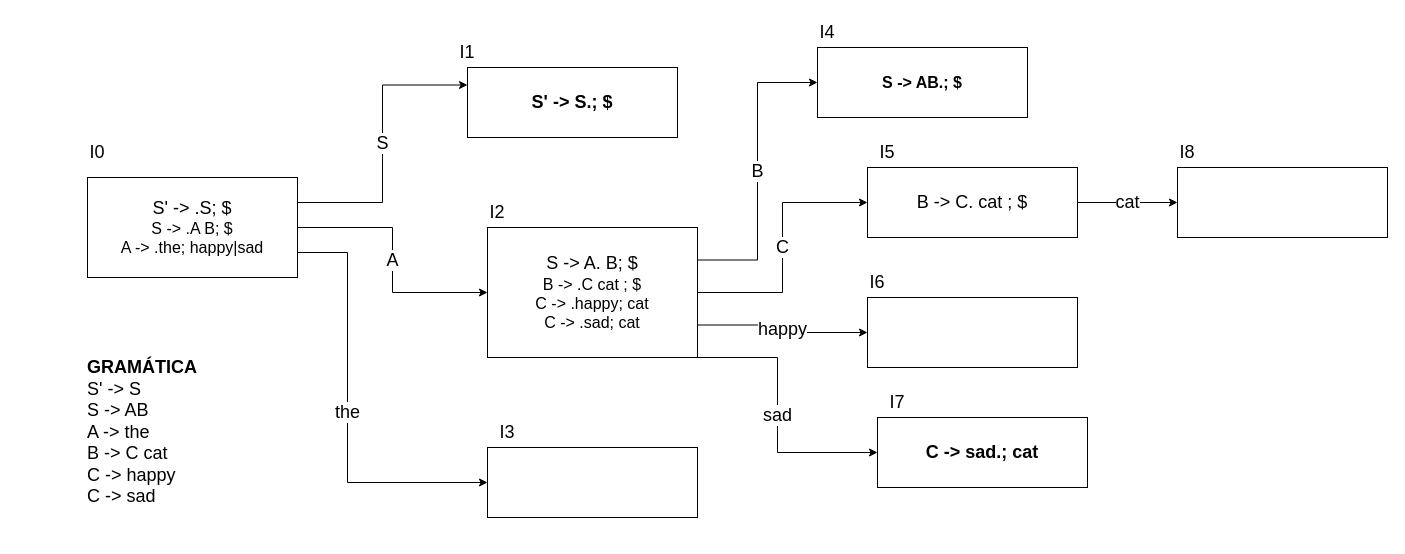
The diagram is 1405 pixels wide and 554 high, and some of its shapes have lost their labels. Here are the shapes that lost their labels. From the top down, the box of each, then its label:
(1176, 166, 1388, 238): B -> C cat. ; $
(866, 296, 1078, 368): C -> happy.; cat
(486, 446, 698, 518): A -> the.; happy|sad
